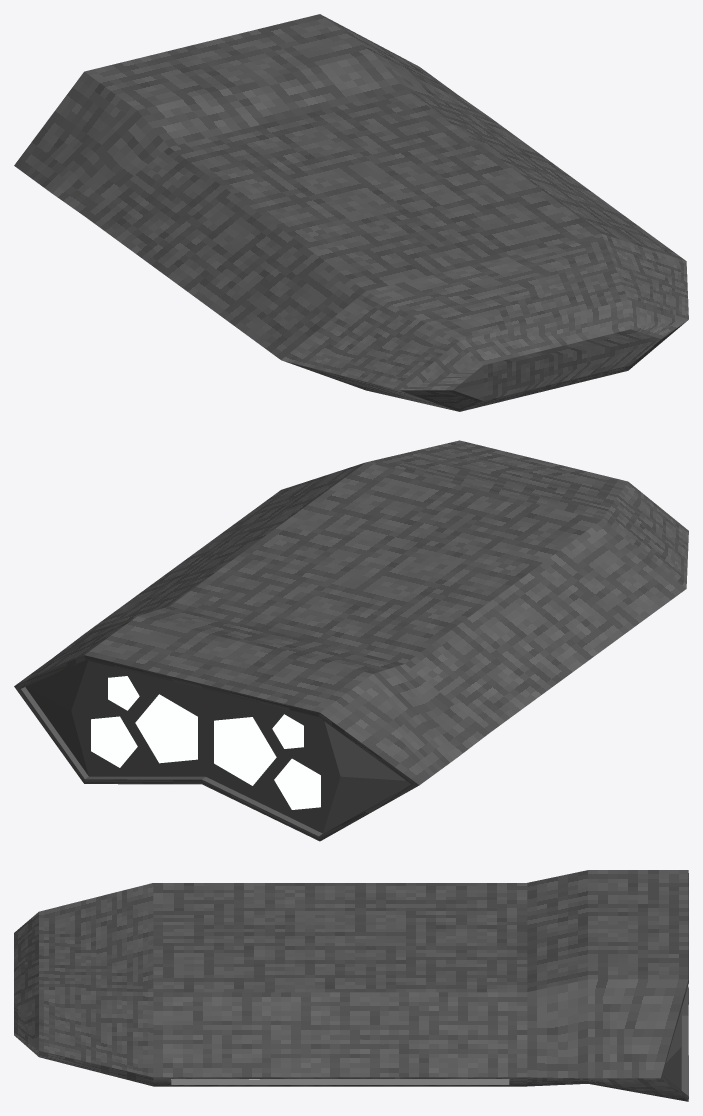
File: carrier.glb
3 renders of one model, top to bottom at view 1: azimuth 30°, elevation 25°; view 2: azimuth 150°, elevation 25°; view 3: azimuth 270°, elevation 25°, orthographic. The views are drawn at different scales.
Parts seen in each view (by area): view 1: Cube.001; view 2: Cube.001; view 3: Cube.001.
Boxes of the visible parts, x1=… form: Cube.001: x1=14, y1=14, x2=688, y2=411; Cube.001: x1=14, y1=440, x2=688, y2=841; Cube.001: x1=14, y1=870, x2=688, y2=1101.
Size of the model in its own units: 4.14 by 1.26 by 6.28.
1 material, 1 textured.
